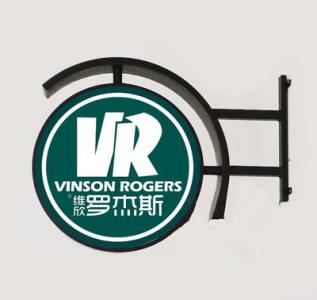ImgView: (1, 1, 316, 299)
